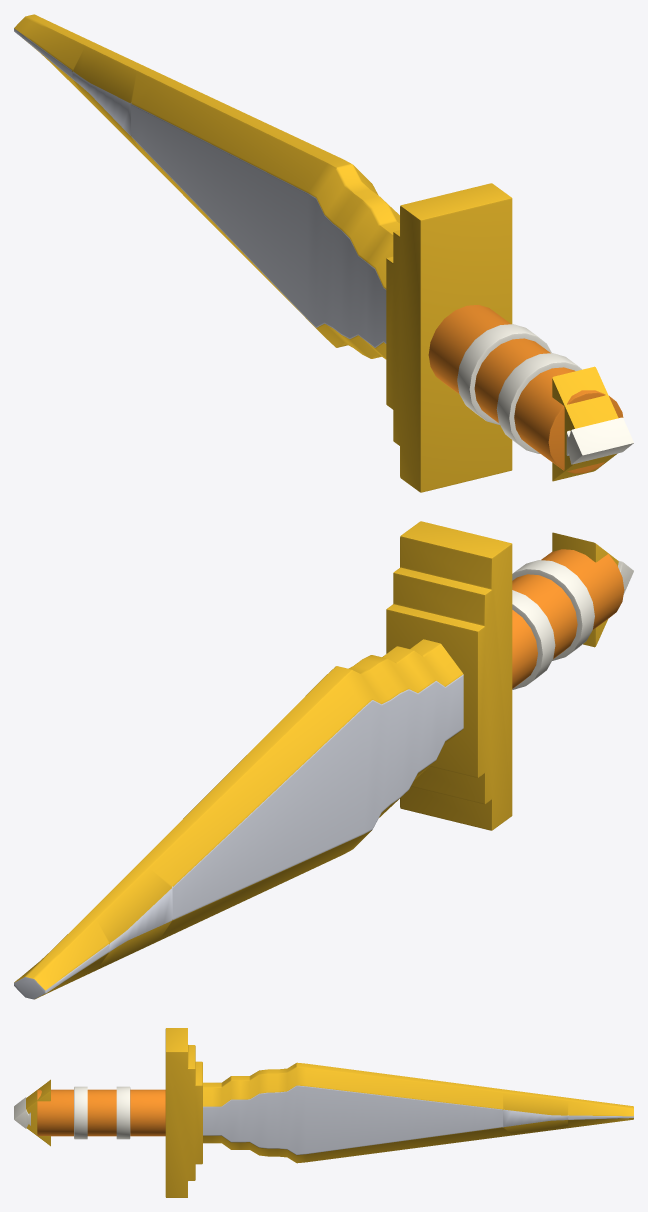
The model's file is Sword_SummitwardBroadsword.glb.
3 views of the same model, one above another, from view 1: azimuth 30°, elevation 25°; view 2: azimuth 150°, elevation 25°; view 3: azimuth 270°, elevation 25° (orthographic). The views are drawn at different scales.
Visible parts, largest first — view 1: Sword_SummitwardBroadsword; view 2: Sword_SummitwardBroadsword; view 3: Sword_SummitwardBroadsword.
Boxes of the visible parts, x1,y1,x2,y2 form: Sword_SummitwardBroadsword: [14, 14, 633, 492]; Sword_SummitwardBroadsword: [14, 521, 633, 999]; Sword_SummitwardBroadsword: [14, 1028, 633, 1197].
Size of the model in its own units: 0.092 by 0.2601 by 1.
Materials: 1 (1 with a texture image).
